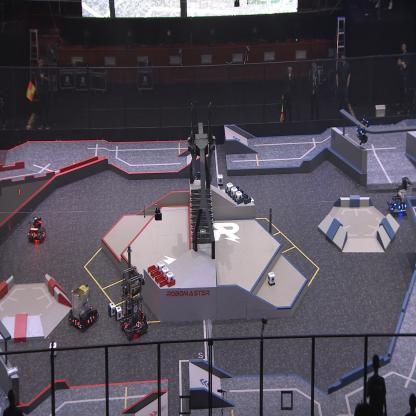car: (119, 263, 150, 339), (68, 281, 99, 332), (387, 175, 410, 216), (27, 215, 47, 245)
